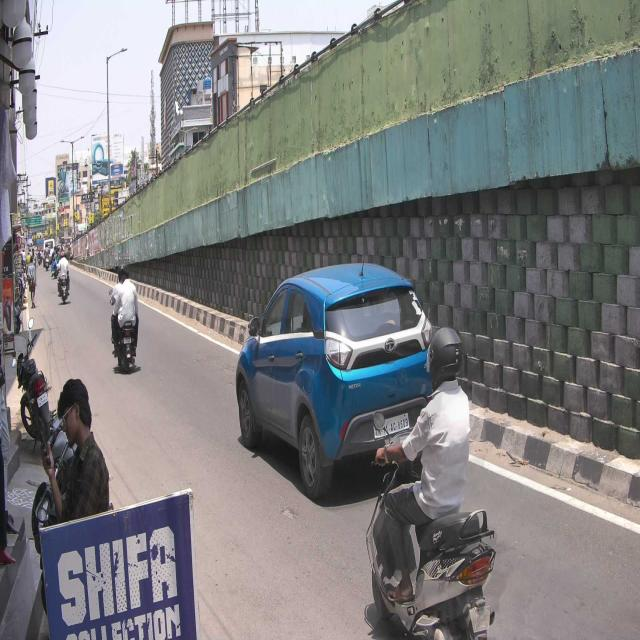single_rider: (365, 327, 497, 640)
